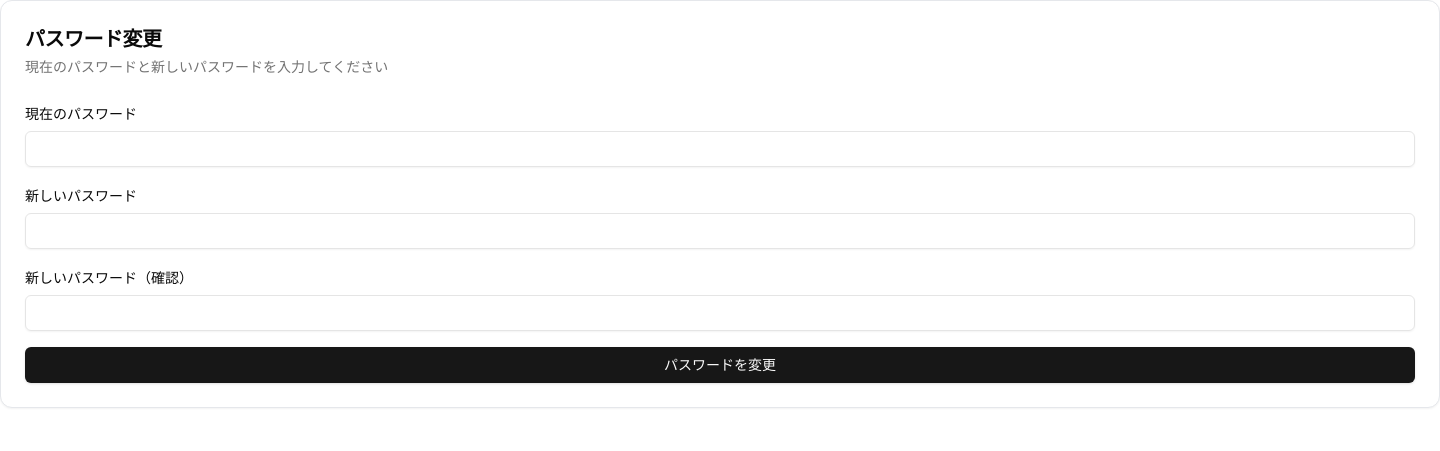
Test: ChangePasswordForm › 新しいパスワードがポリシーを満たさない場合はエラーが表示される（8文字未満）
The image size is (1440, 451).
Type "CurrentP1" into the password field labelled "現在のパスワード".
click(720, 149); type("CurrentP1")  # box [25, 131, 1415, 167]
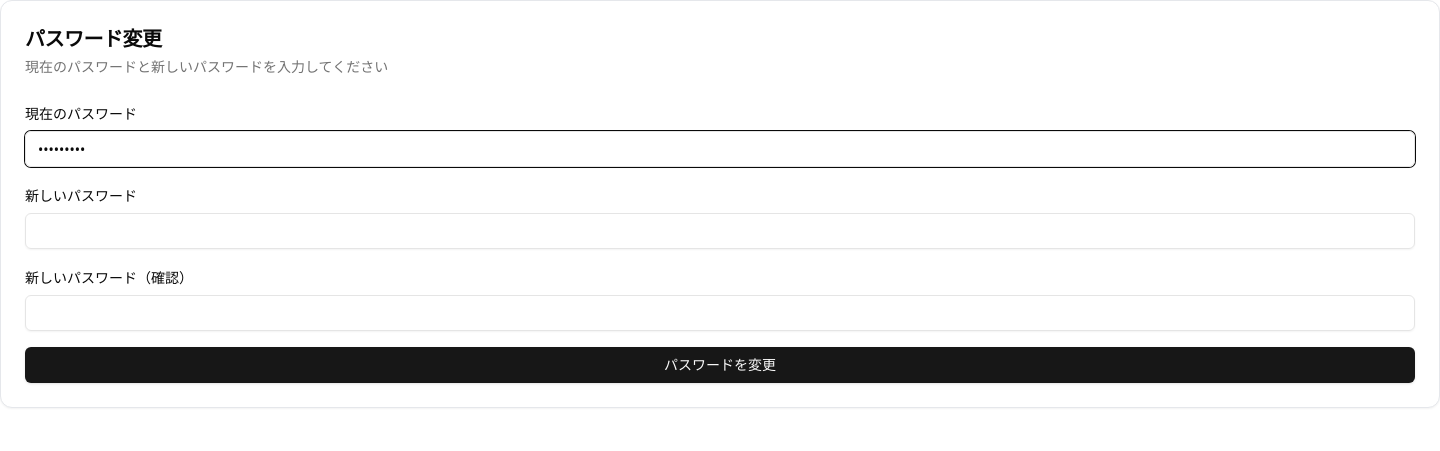
Type "Short1" into the password field labelled "新しいパスワード".
click(720, 231); type("Short1")  # box [25, 213, 1415, 249]
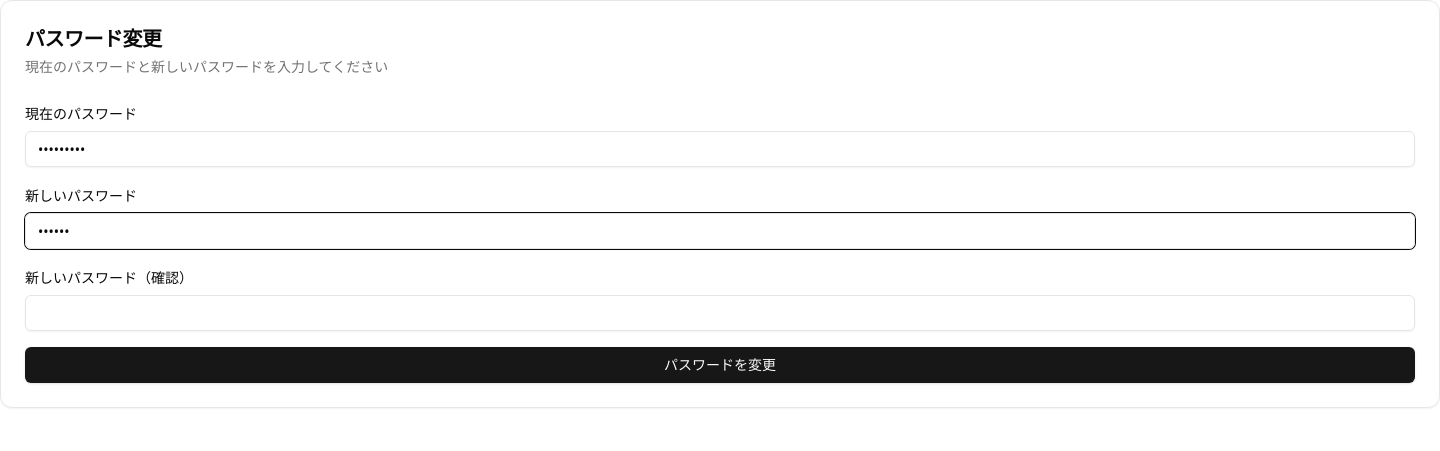
Type "Short1" into the password field labelled "新しいパスワード（確認）".
click(720, 313); type("Short1")  # box [25, 295, 1415, 331]
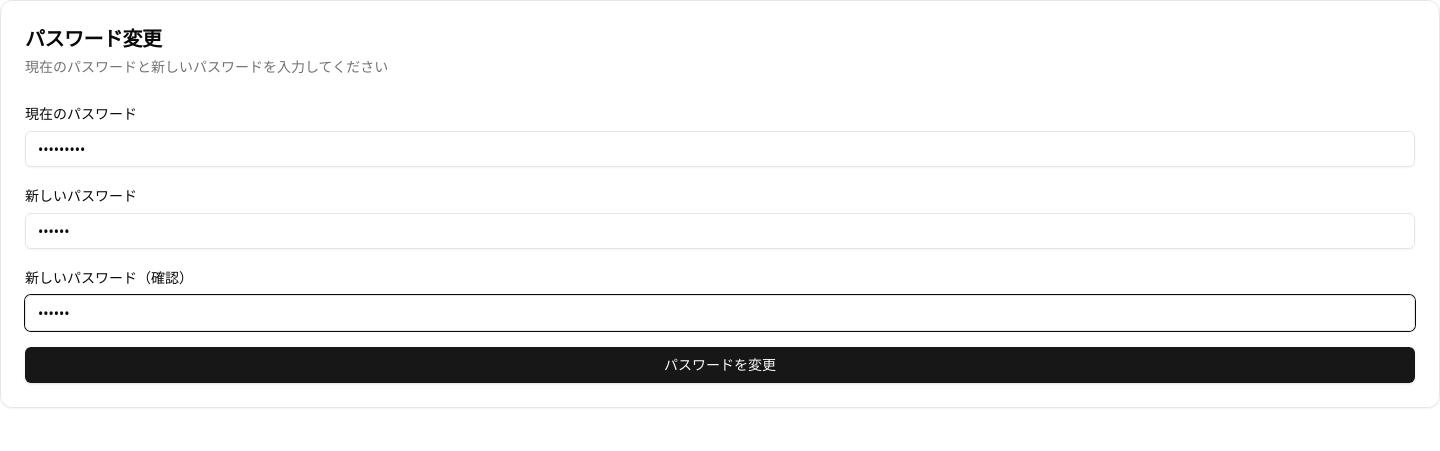
Click the button "パスワードを変更".
click(720, 365)  # box [25, 347, 1415, 383]
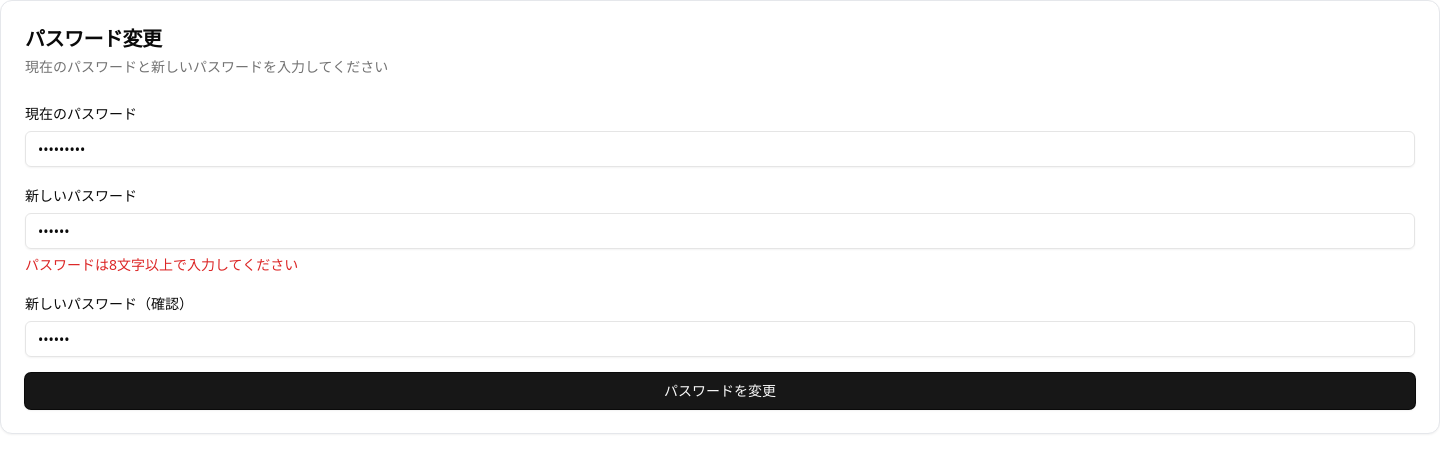
Now the text "パスワードは8文字以上で入力してください" is shown, box [25, 255, 298, 274]
